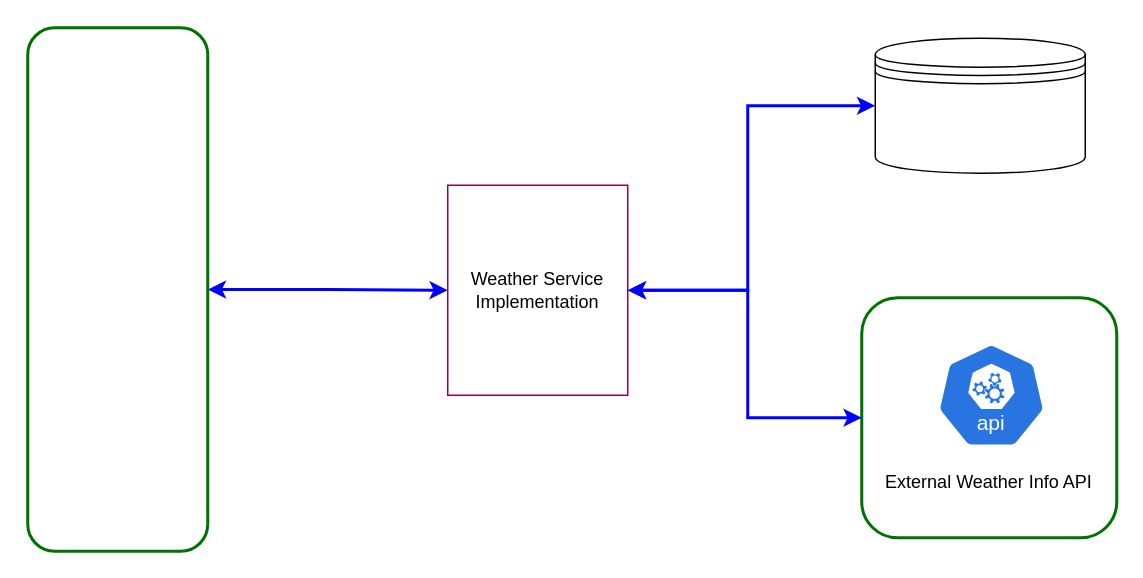
This 1143x578 diagram has some shape labels left out. The centre of each missing label's shape, as x and y in pixels:
"Data Layer (In-Memory)" belongs at point 979,105.
"WeatherInfo REST API" belongs at point 117,289.
